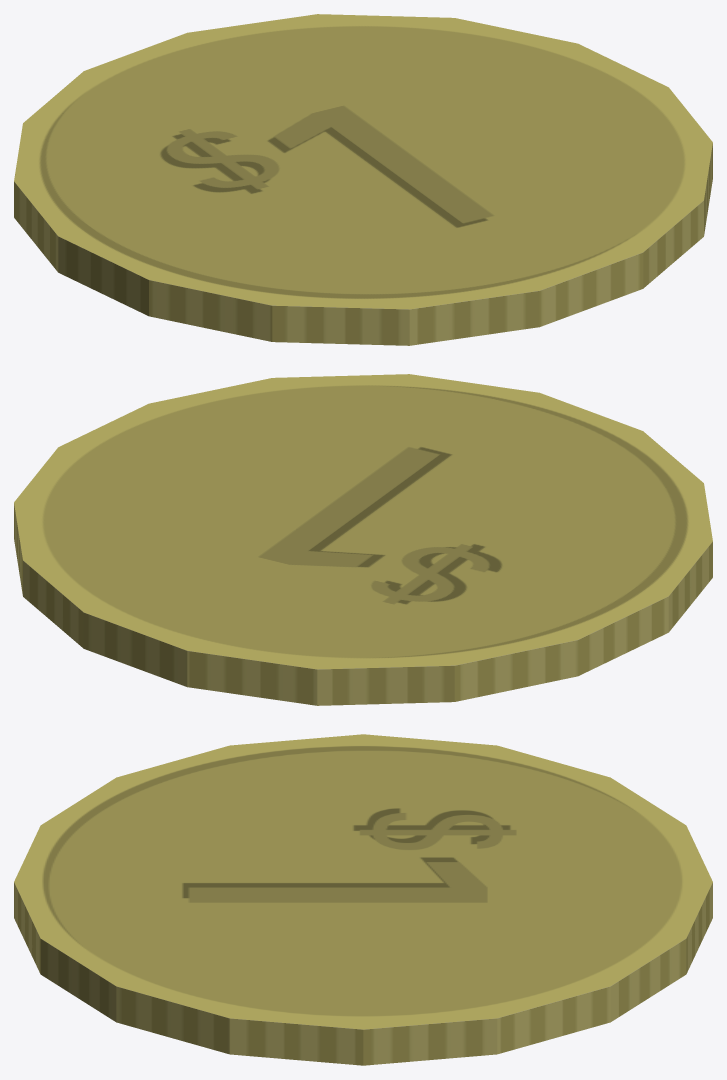
File: coin.glb
3 renders of one model, top to bottom at view 1: azimuth 30°, elevation 25°; view 2: azimuth 150°, elevation 25°; view 3: azimuth 270°, elevation 25°, orthographic.
Visible parts, largest first — view 1: Cylinder; view 2: Cylinder; view 3: Cylinder.
Boxes of the visible parts, box(x1,y1,x2,y2) form: Cylinder: box(14, 14, 712, 345); Cylinder: box(14, 374, 712, 705); Cylinder: box(14, 734, 712, 1065).
Size of the model in its own units: 2 by 0.1138 by 2.
1 material, 1 textured.
